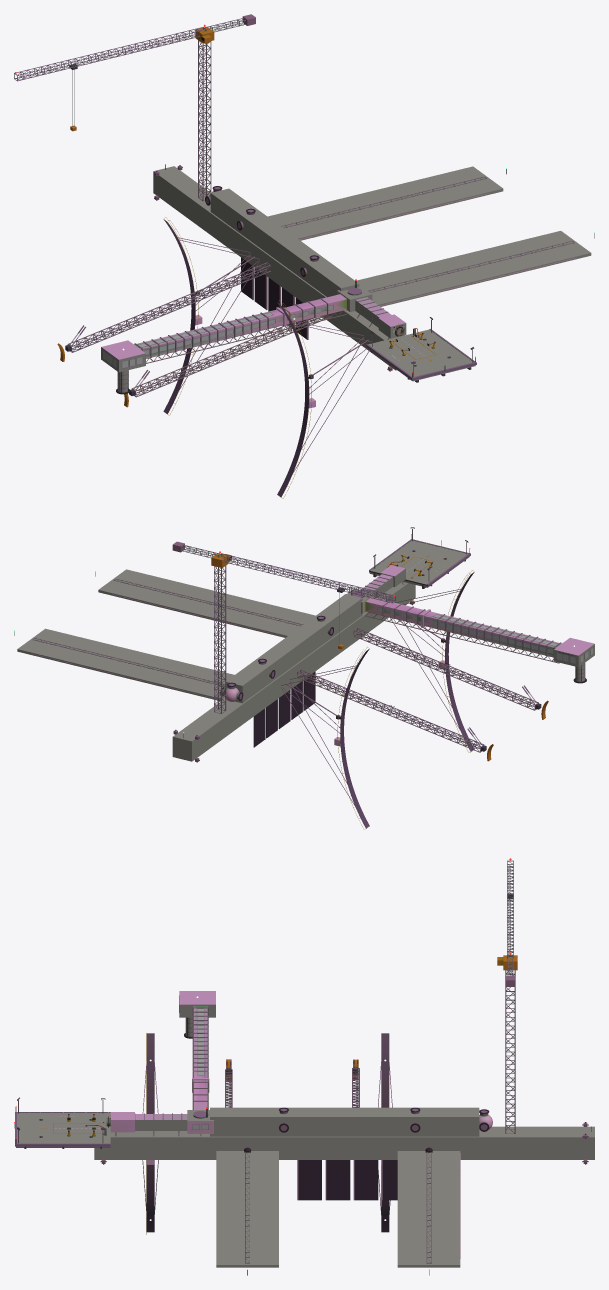
Rendered from platform.glb.
The picture shows the model from 3 angles, top to bottom: view 1: azimuth 30°, elevation 25°; view 2: azimuth 150°, elevation 25°; view 3: azimuth 270°, elevation 25°; orthographic projection. The views are drawn at different scales.
Parts seen in each view (by area): view 1: platform_col__m, platform_hull__m, platform_glass__m; view 2: platform_col__m, platform_hull__m, platform_glass__m; view 3: platform_col__m, platform_hull__m.
Boxes of the visible parts, <box> form: platform_col__m: <box>101,166,591,392</box>; platform_hull__m: <box>14,14,594,498</box>; platform_glass__m: <box>103,305,394,367</box>; platform_col__m: <box>17,540,594,761</box>; platform_hull__m: <box>14,527,594,829</box>; platform_glass__m: <box>378,607,592,663</box>; platform_col__m: <box>16,1004,594,1267</box>; platform_hull__m: <box>14,858,591,1275</box>.
Bounding box in the file's own units: 194 × 117 × 186.
